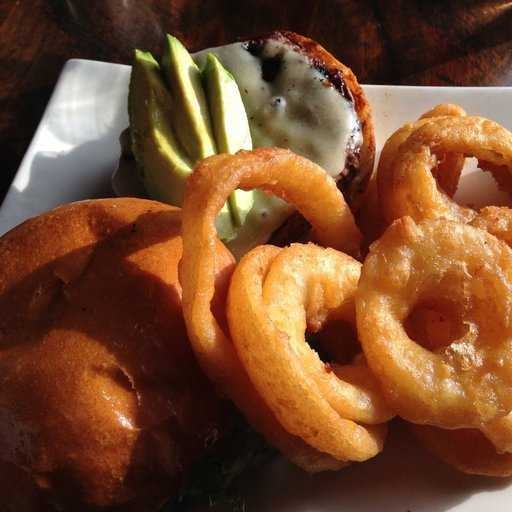hamburger: (1, 188, 220, 484)
